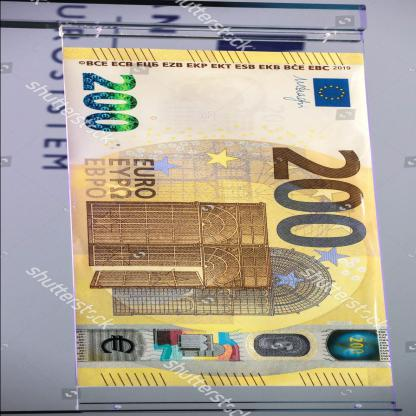euro_banknote: (52, 61, 406, 376)
